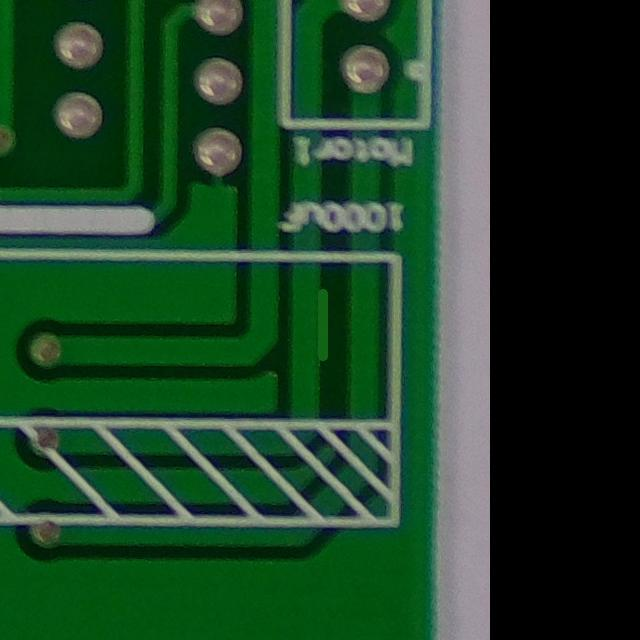spur: (290, 266, 351, 374)
